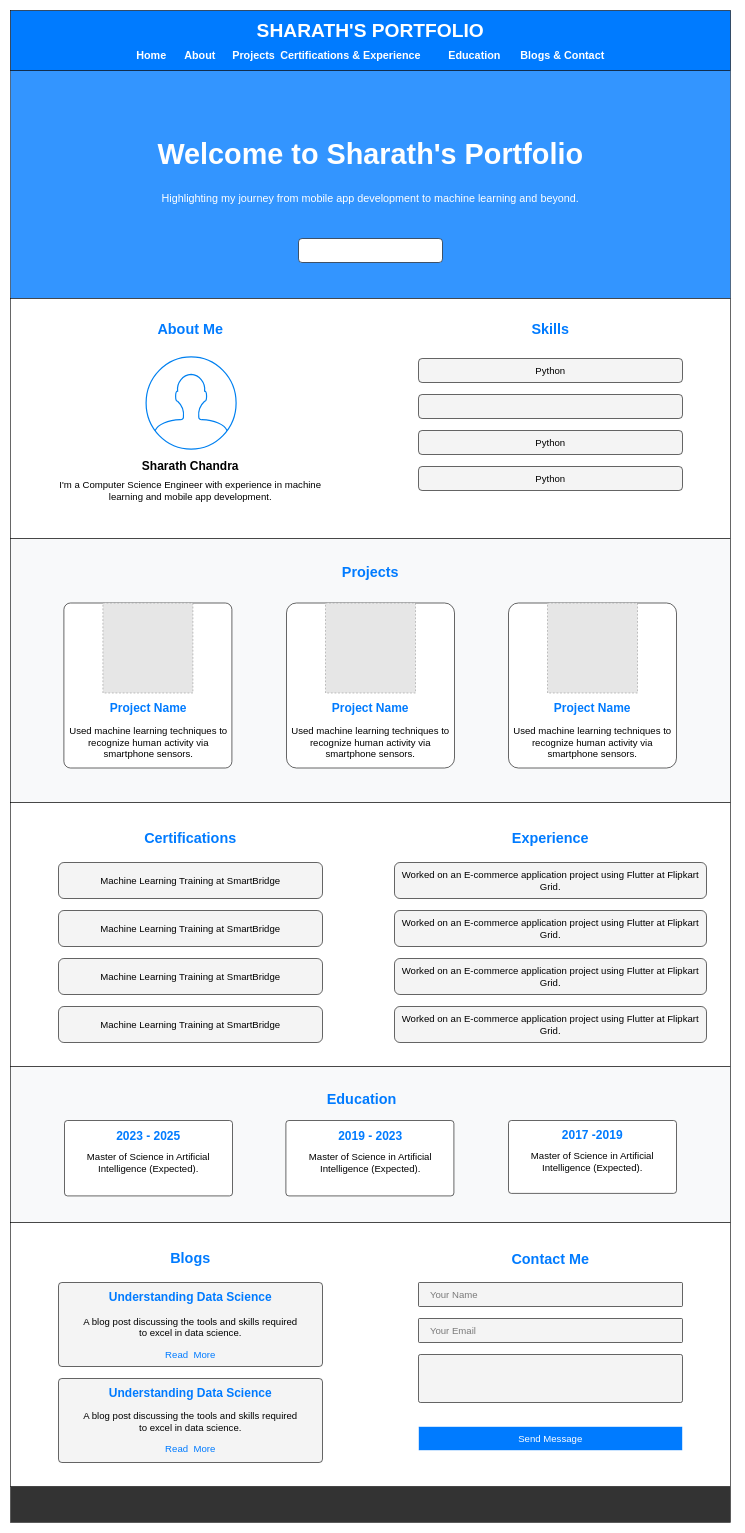
Image size: 745x1533. Some labels were removed from this diagram. Grey dashed boxes stand in for pictures. The centre of each missing label's shape, as x and y in pixels:
"Connect with me on LinkedIn or Email ." belongs at point 370,1504.
"Explore My Projects" belongs at point 370,250.
"Your Message" belongs at point 550,1378.
